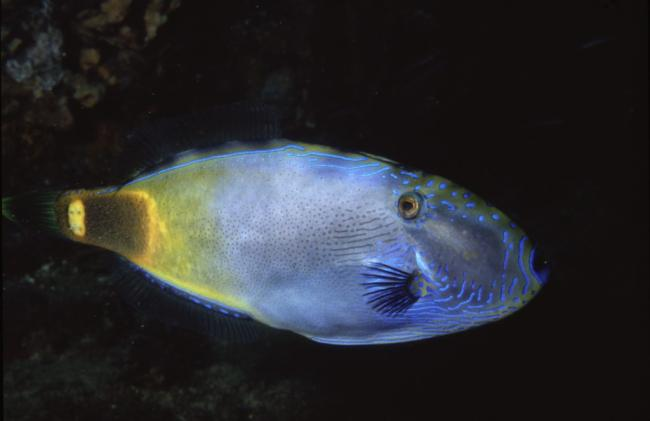fish: (7, 135, 549, 345)
